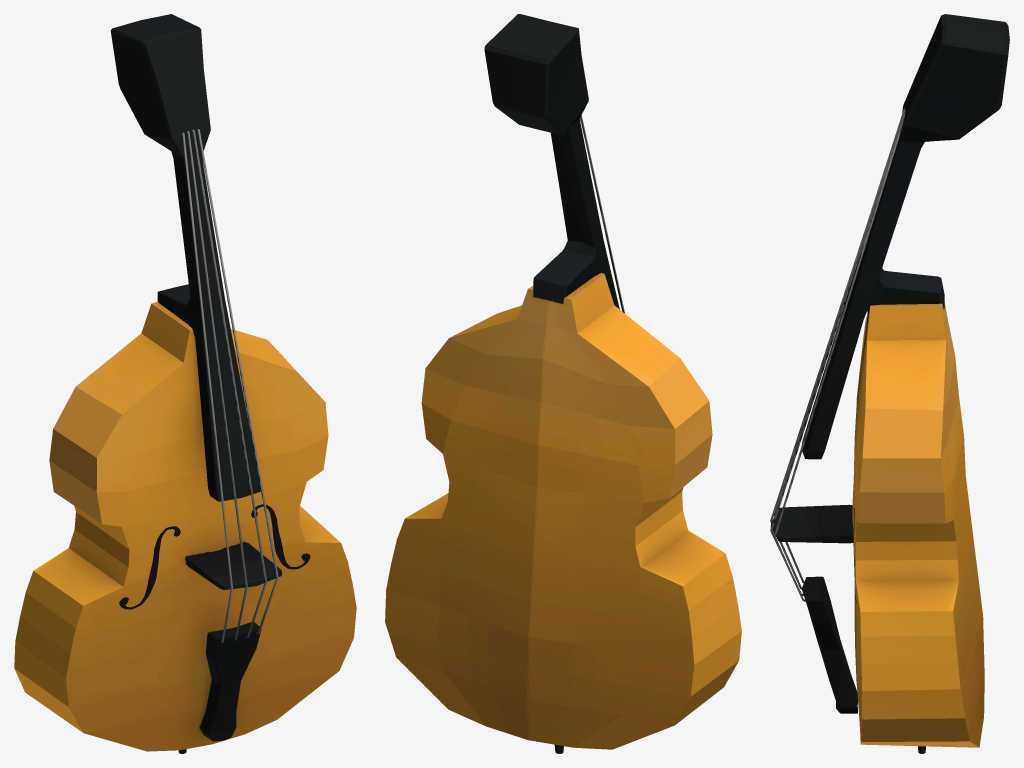
The model's file is bass.gltf.
The picture shows the model from 3 angles, left to right: view 1: azimuth 30°, elevation 25°; view 2: azimuth 150°, elevation 25°; view 3: azimuth 270°, elevation 25°; orthographic projection. The views are drawn at different scales.
Visible parts, largest first — view 1: Base_Wood, Base_Black, Strings, Decorations; view 2: Base_Wood, Base_Black, Strings; view 3: Base_Wood, Base_Black, Strings.
Part boxes in pixels (<box>): Base_Wood: <box>14,301,356,751</box>; Base_Black: <box>110,14,281,753</box>; Strings: <box>182,129,278,642</box>; Decorations: <box>119,504,310,609</box>; Base_Wood: <box>385,273,741,749</box>; Base_Black: <box>484,14,619,753</box>; Strings: <box>580,115,624,313</box>; Base_Wood: <box>852,303,984,747</box>; Base_Black: <box>770,14,1009,753</box>; Strings: <box>770,108,905,601</box>.
Size of the model in its own units: 2.87 by 6.6 by 1.98.
1 material, 1 textured.
